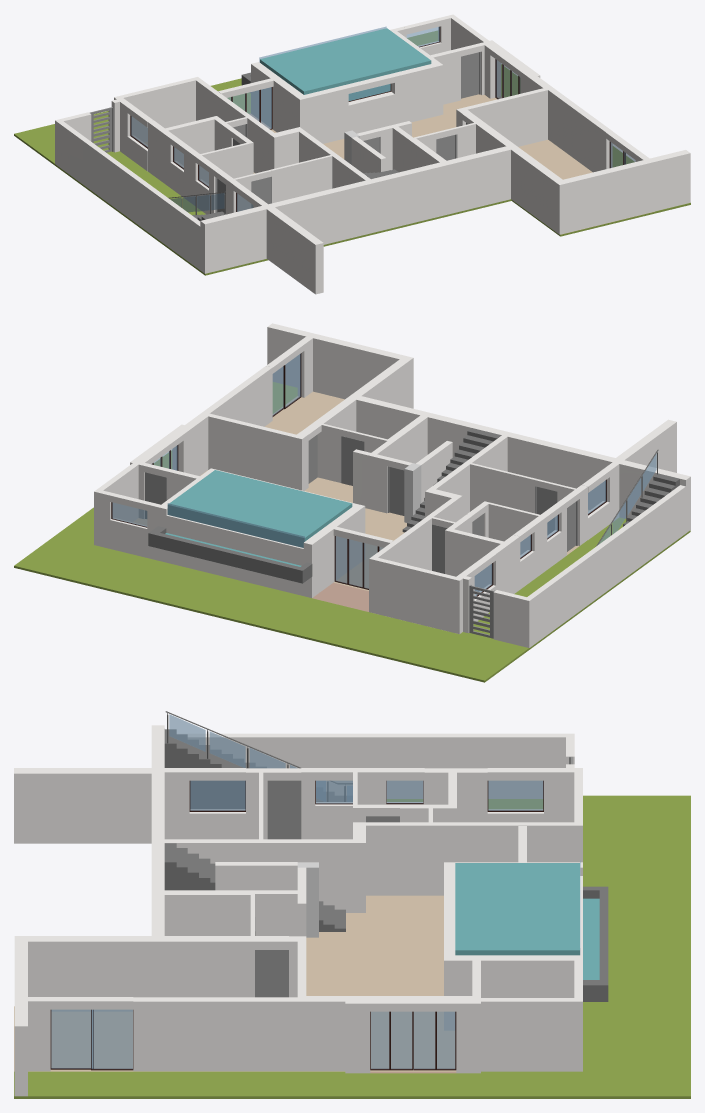
Rendered from BasementFloor.glb.
3 renders of one model, top to bottom at view 1: azimuth 30°, elevation 25°; view 2: azimuth 150°, elevation 25°; view 3: azimuth 270°, elevation 25°, orthographic. The views are drawn at different scales.
Visible parts, largest first — view 1: Box001, Box002, Box057, Box008, Swimming_Pool, Box004, Box003, Box007, Box006, Box086, Box073, Box095; view 2: Box001, Box057, Box002, Box008, Swimming_Pool, Box004, Box003, Box007, Box031, zp, Box104, Box006 (+12 smaller); view 3: Box001, Box057, Box008, Swimming_Pool, Box007, Box002, Box004, Box003, Box105, Box104, Box089, Box090 (+17 smaller).
Part boxes in pixels (x1,y1,x2,y2): Box001: (55, 77, 690, 294); Box002: (218, 26, 460, 143); Box057: (14, 30, 690, 275); Box008: (456, 69, 612, 172); Swimming_Pool: (260, 28, 431, 100); Box004: (170, 130, 253, 214); Box003: (148, 116, 247, 187); Box007: (404, 14, 530, 98); Box006: (214, 169, 272, 214); Box086: (461, 52, 478, 98); Box073: (90, 107, 111, 152); Box095: (406, 27, 439, 46); Box001: (266, 323, 690, 647); Box057: (14, 382, 690, 682); Box002: (110, 468, 393, 597); Box008: (172, 366, 308, 490); Swimming_Pool: (168, 470, 352, 547); Box004: (467, 501, 561, 589); Box003: (432, 514, 520, 593); Box007: (94, 431, 183, 548); Box031: (148, 526, 312, 583); zp: (167, 503, 304, 547); Box104: (402, 428, 501, 532); Box006: (535, 479, 587, 545); Box001: (14, 725, 582, 1096); Box057: (14, 795, 690, 1098); Box008: (133, 936, 370, 1073); Swimming_Pool: (455, 863, 579, 955); Box007: (370, 967, 582, 1073); Box002: (444, 826, 582, 1030); Box004: (315, 768, 424, 839); Box003: (400, 768, 487, 822); Box105: (164, 729, 352, 808); Box104: (164, 843, 345, 931); Box089: (91, 1009, 132, 1068); Box090: (51, 1009, 92, 1068).
Size of the model in its own units: 22.69 by 3.67 by 21.57.
